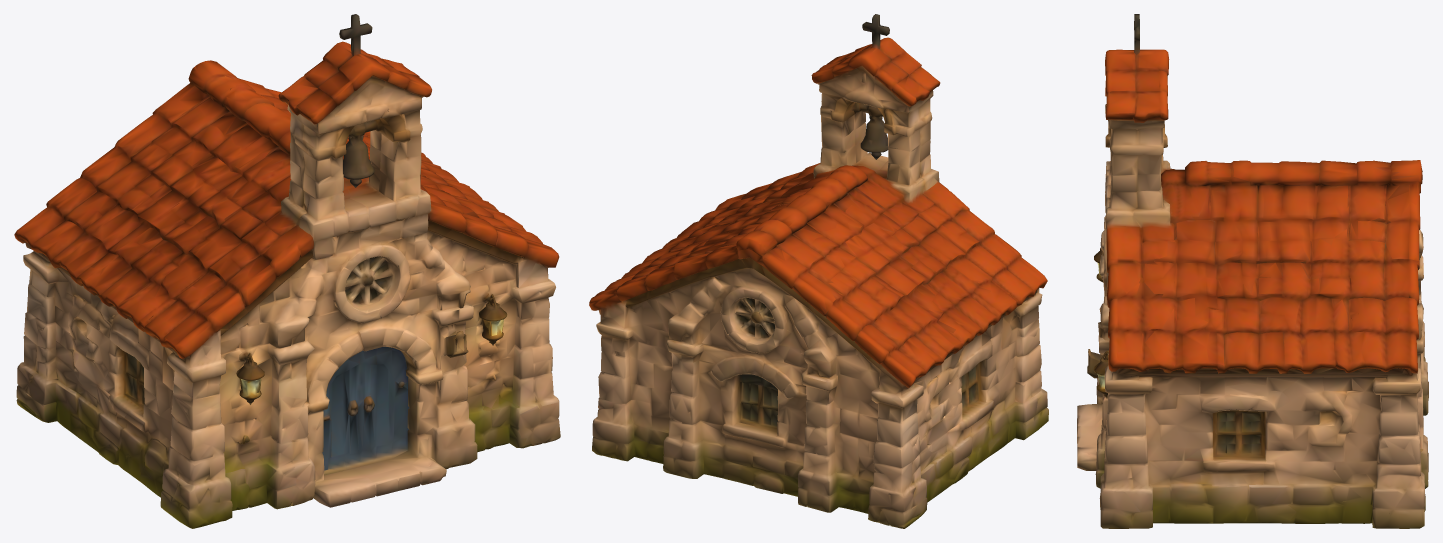
Rendered from Piece04.fbx.
3 views of the same model, side by side, from view 1: azimuth 30°, elevation 25°; view 2: azimuth 150°, elevation 25°; view 3: azimuth 270°, elevation 25° (orthographic). The views are drawn at different scales.
Parts seen in each view (by area): view 1: Piece04; view 2: Piece04; view 3: Piece04.
Boxes of the visible parts, <box> form: Piece04: <box>14,14,560,528</box>; Piece04: <box>589,14,1048,528</box>; Piece04: <box>1077,14,1428,528</box>.
Size of the model in its own units: 88.87 by 99.94 by 74.42.
1 material, 1 textured.
